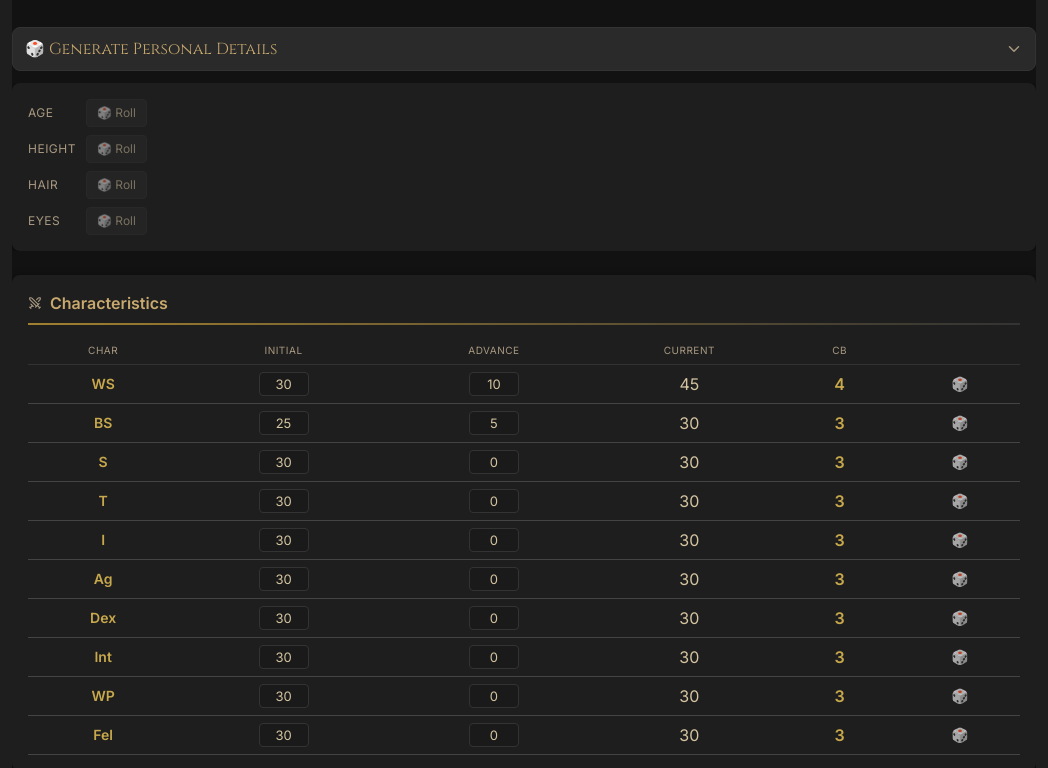
it: CharCurrentTooltip integration › characteristic with talent bonus shows talent name in tooltip
Step 1. Click the button "45" → click(689, 384), box 679,374 -> 699,394
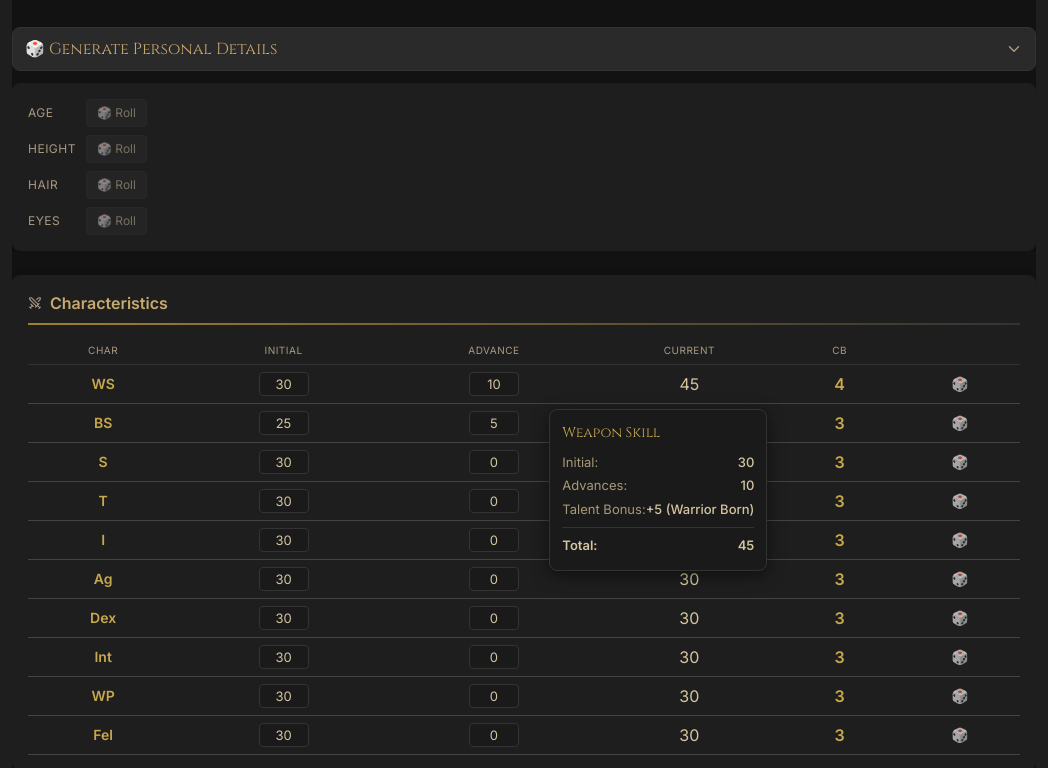
Expected: the tooltip with id "tooltip-char-WS" shows "Talent Bonus", 562,500 -> 646,516
Expected: the tooltip with id "tooltip-char-WS" shows "+5", 549,408 -> 767,570
Expected: the tooltip with id "tooltip-char-WS" shows "Warrior Born", 662,500 -> 754,516
